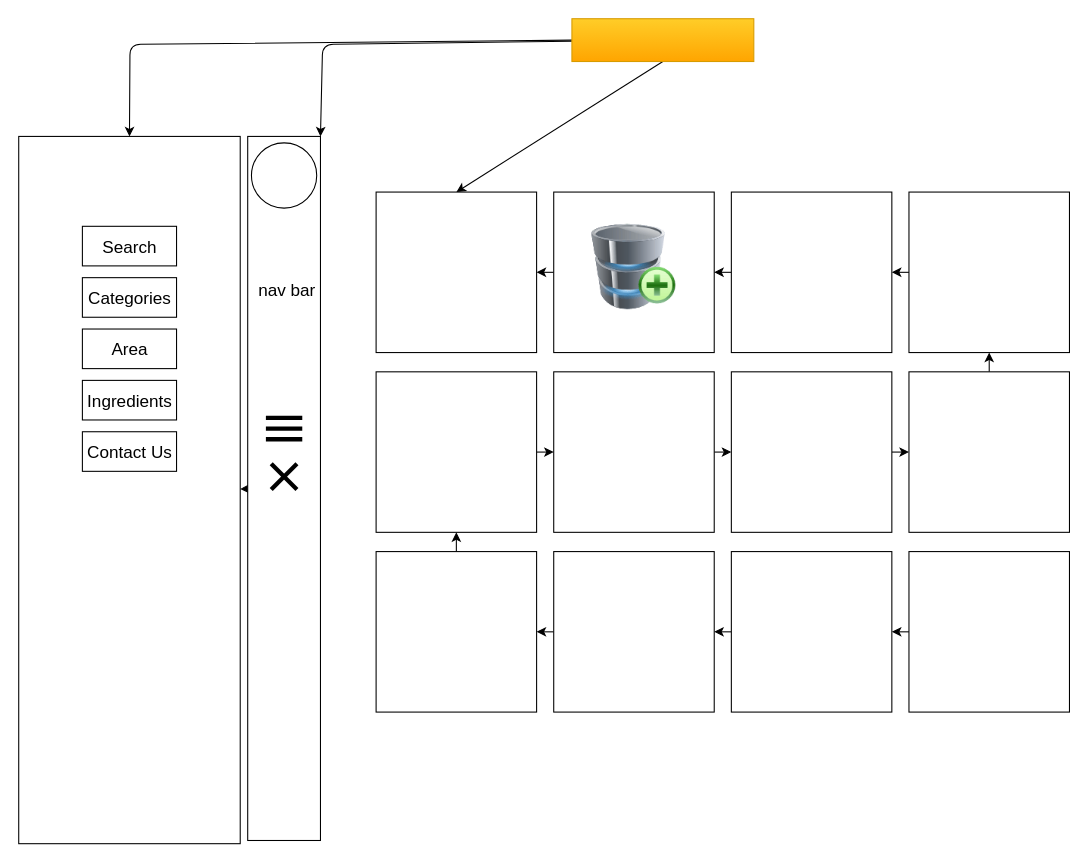
Image size: 1088x862. Some labels were removed from this diagram. Here are the shapes that lost their labels. From the top down, the box of each, then its label:
(571, 18, 754, 62): api project
(250, 142, 317, 208): logo
